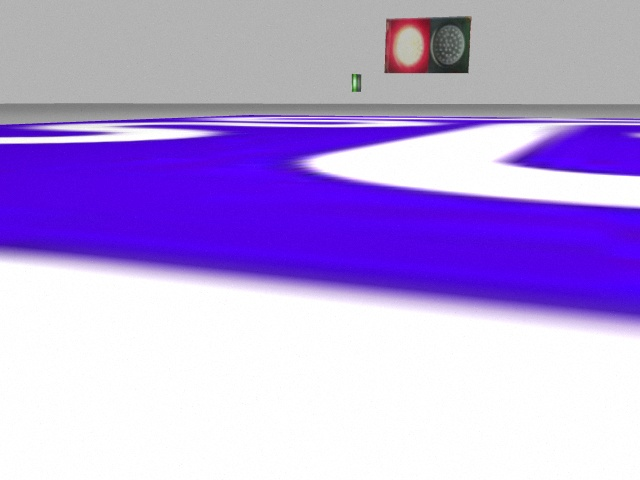red: (386, 16, 429, 73)
